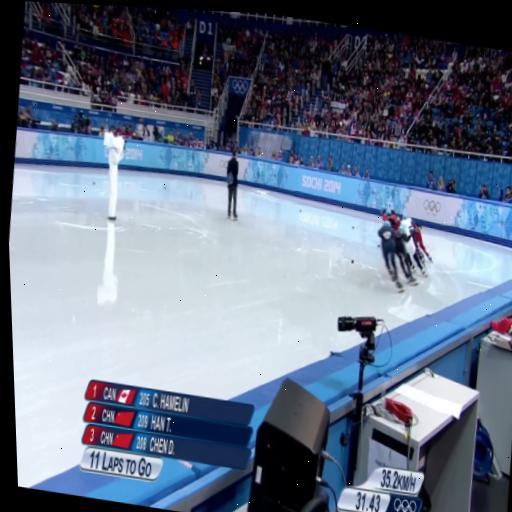Skater: (379, 221, 403, 291), (400, 214, 426, 276), (402, 214, 433, 262), (394, 225, 417, 285), (398, 224, 416, 273), (413, 224, 433, 262), (402, 214, 420, 253), (400, 214, 416, 245), (386, 210, 400, 231), (382, 209, 390, 221)
